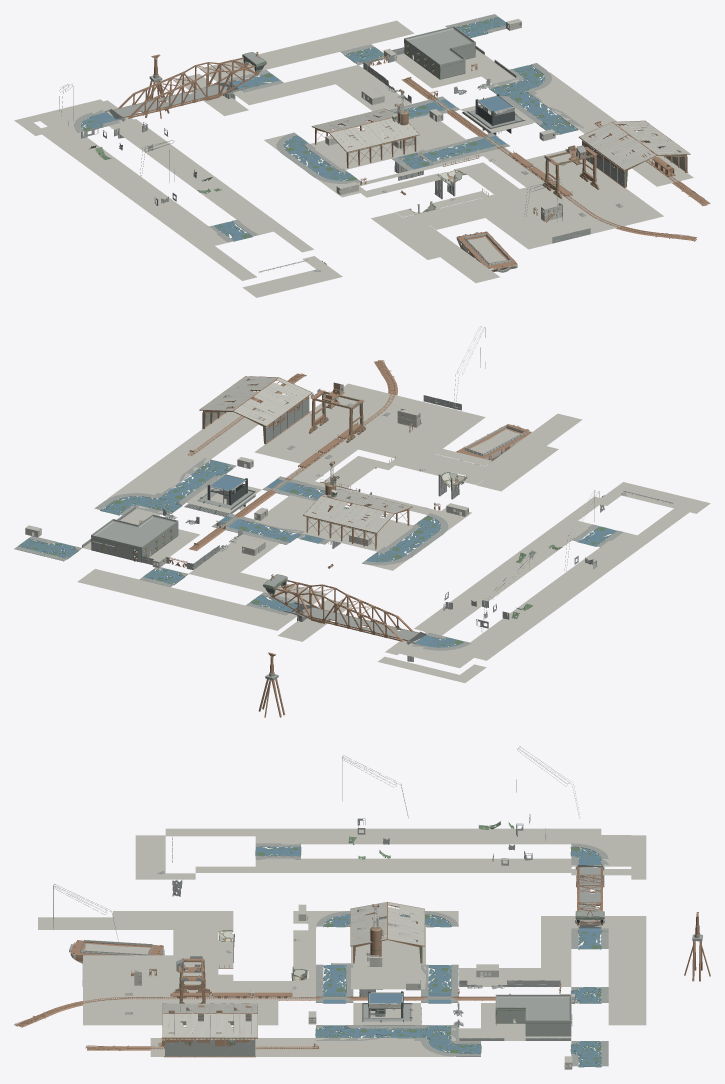
Rendered from harbor_2-close.glb.
The picture shows the model from 3 angles, top to bottom: view 1: azimuth 30°, elevation 25°; view 2: azimuth 150°, elevation 25°; view 3: azimuth 270°, elevation 25°; orthographic projection. The views are drawn at different scales.
Visible parts, largest first — view 1: rope_docks_a, swing_bridge_LOD0, road_9x15_LOD0; view 2: rope_docks_a, swing_bridge_LOD0, road_9x15_LOD0; view 3: rope_docks_a, swing_bridge_LOD0, road_9x15_LOD0.
Boxes of the visible parts, x1,y1,x2,y2 form: rope_docks_a: (14,19,693,297); swing_bridge_LOD0: (74,14,710,272); road_9x15_LOD0: (81,17,577,241); rope_docks_a: (25,326,710,682); swing_bridge_LOD0: (14,360,626,717); road_9x15_LOD0: (18,460,616,647); rope_docks_a: (38,746,646,1069); swing_bridge_LOD0: (14,814,710,1066); road_9x15_LOD0: (255,847,601,1067).
Bounding box in the file's own units: 231 × 62.24 × 278.
